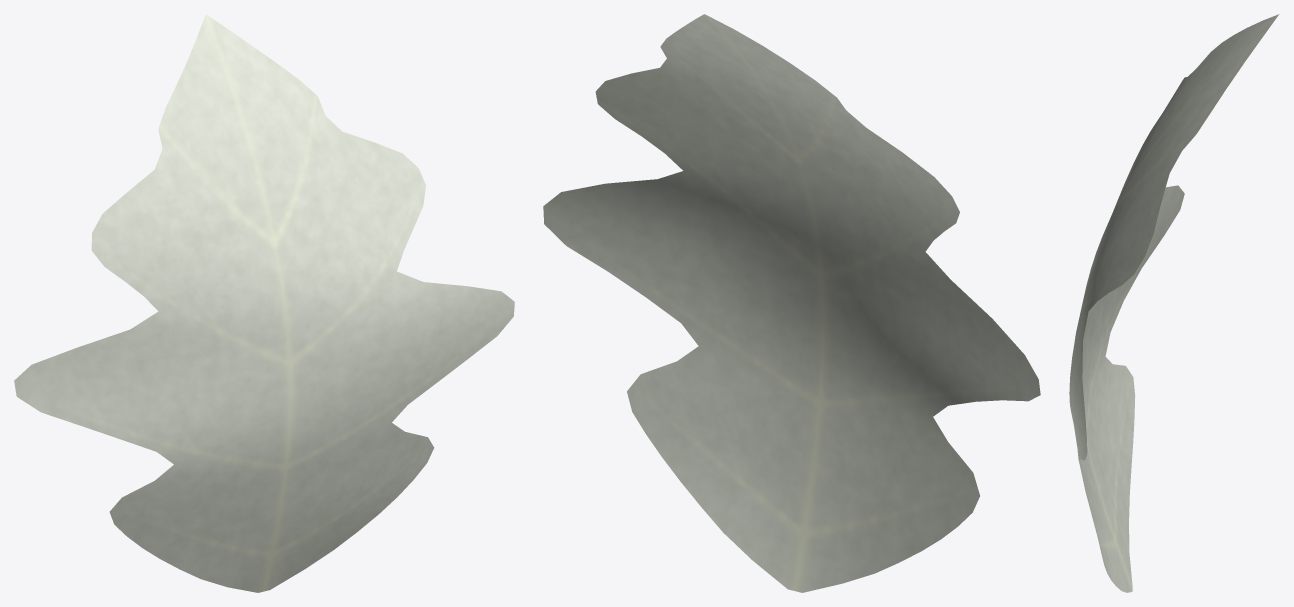
File: hydrangea-leaf.glb
The picture shows the model from 3 angles, left to right: view 1: azimuth 30°, elevation 25°; view 2: azimuth 150°, elevation 25°; view 3: azimuth 270°, elevation 25°; orthographic projection. The views are drawn at different scales.
Visible parts, largest first — view 1: Oakleaf delivery organ; view 2: Oakleaf delivery organ; view 3: Oakleaf delivery organ.
Boxes of the visible parts, <box> form: Oakleaf delivery organ: <box>14,14,514,592</box>; Oakleaf delivery organ: <box>543,14,1040,592</box>; Oakleaf delivery organ: <box>1069,14,1279,592</box>.
Size of the model in its own units: 0.9069 by 1 by 0.3288.
Materials: 1 (1 with a texture image).
